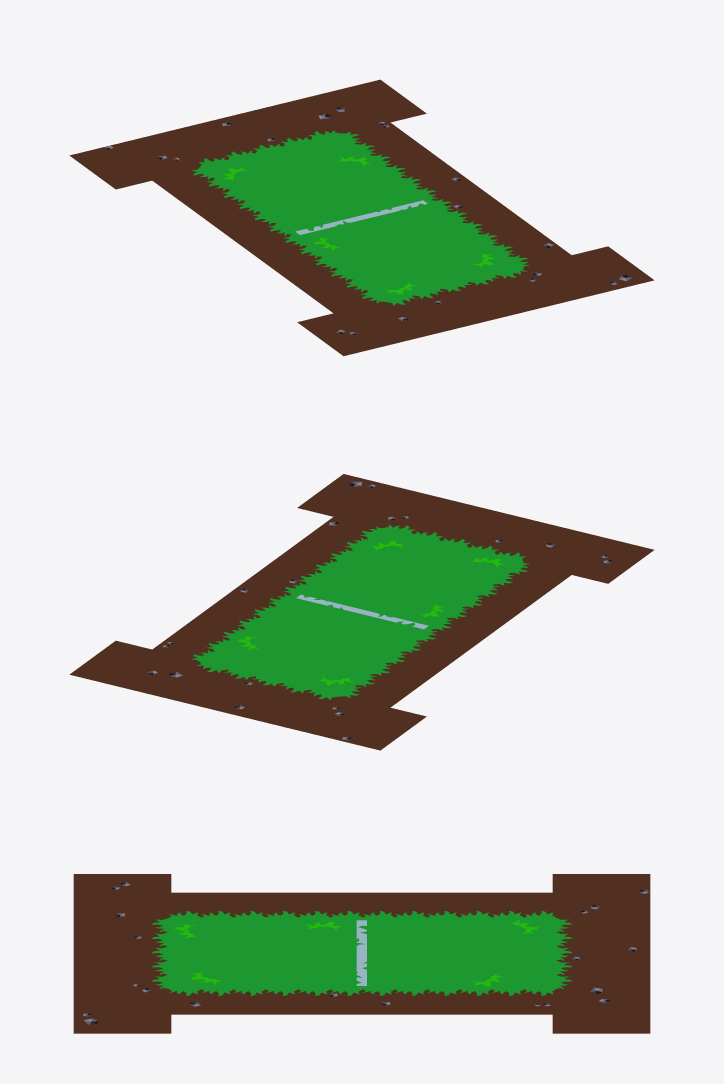
The model's file is field.fbx.
The picture shows the model from 3 angles, top to bottom: view 1: azimuth 30°, elevation 25°; view 2: azimuth 150°, elevation 25°; view 3: azimuth 270°, elevation 25°; orthographic projection. The views are drawn at different scales.
Visible parts, largest first — view 1: Field; view 2: Field; view 3: Field.
Part boxes in pixels (<box>): Field: <box>69,79,653,356</box>; Field: <box>70,474,654,750</box>; Field: <box>73,874,650,1033</box>.
Bounding box in the file's own units: 3485 × 751 × 2648.
